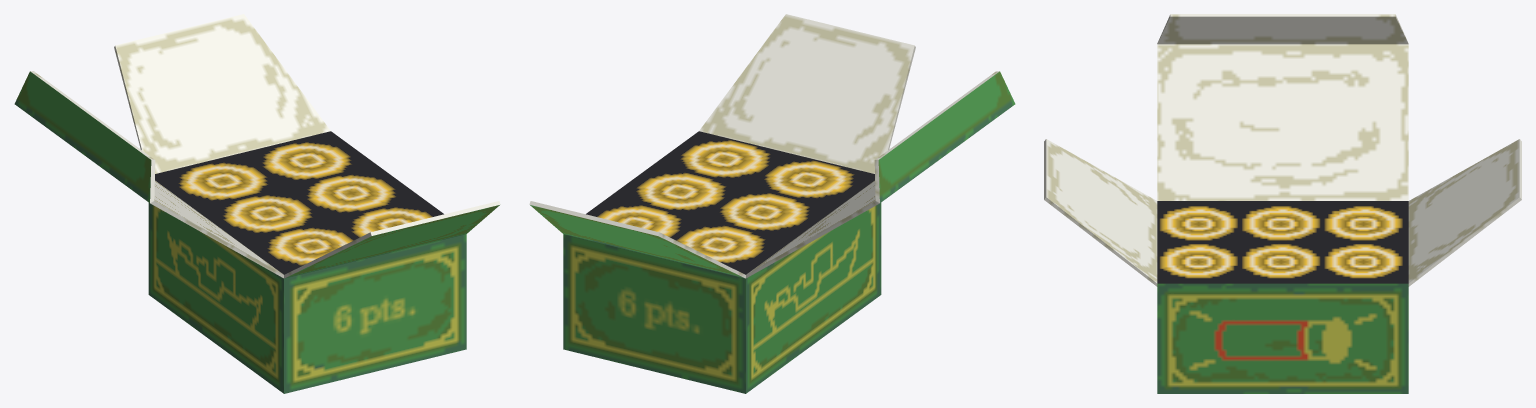
The model's file is shotgun ammo.gltf.
3 renders of one model, left to right at view 1: azimuth 30°, elevation 25°; view 2: azimuth 150°, elevation 25°; view 3: azimuth 270°, elevation 25°, orthographic. The views are drawn at different scales.
Parts seen in each view (by area): view 1: Cube; view 2: Cube; view 3: Cube.
Boxes of the visible parts, bbox=[...] form: Cube: bbox=[14, 14, 500, 393]; Cube: bbox=[529, 14, 1015, 393]; Cube: bbox=[1044, 14, 1521, 393].
Bounding box in the file's own units: 0.4582 × 0.3588 × 0.646.
Materials: 2 (2 with a texture image).
